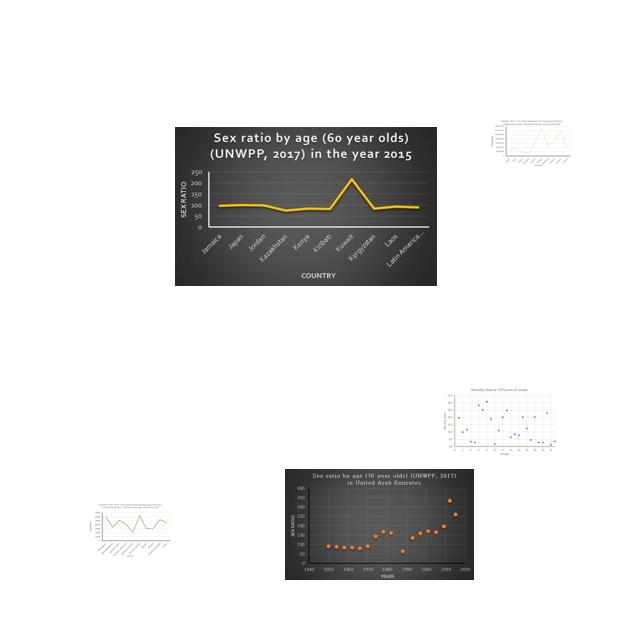Graph: (175, 127, 437, 286), (285, 469, 474, 580), (442, 386, 559, 456), (88, 503, 172, 558), (491, 119, 572, 167)
